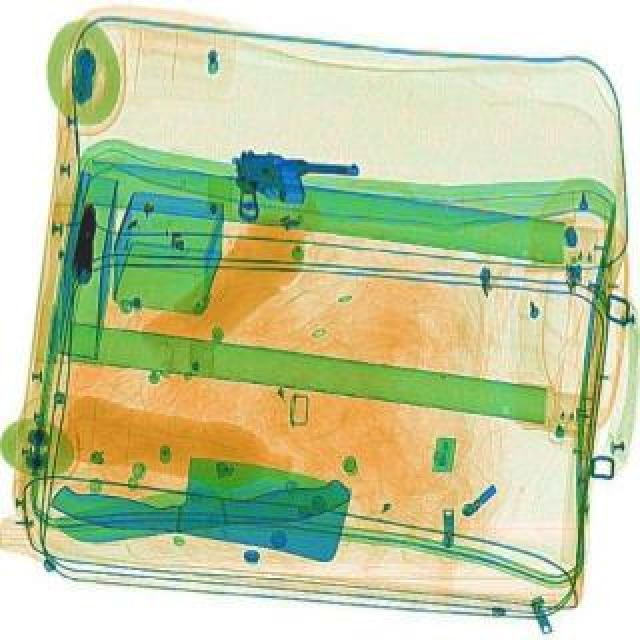gun: (222, 146, 358, 228), (72, 200, 98, 280)
knife: (48, 430, 354, 562), (48, 470, 352, 546)
